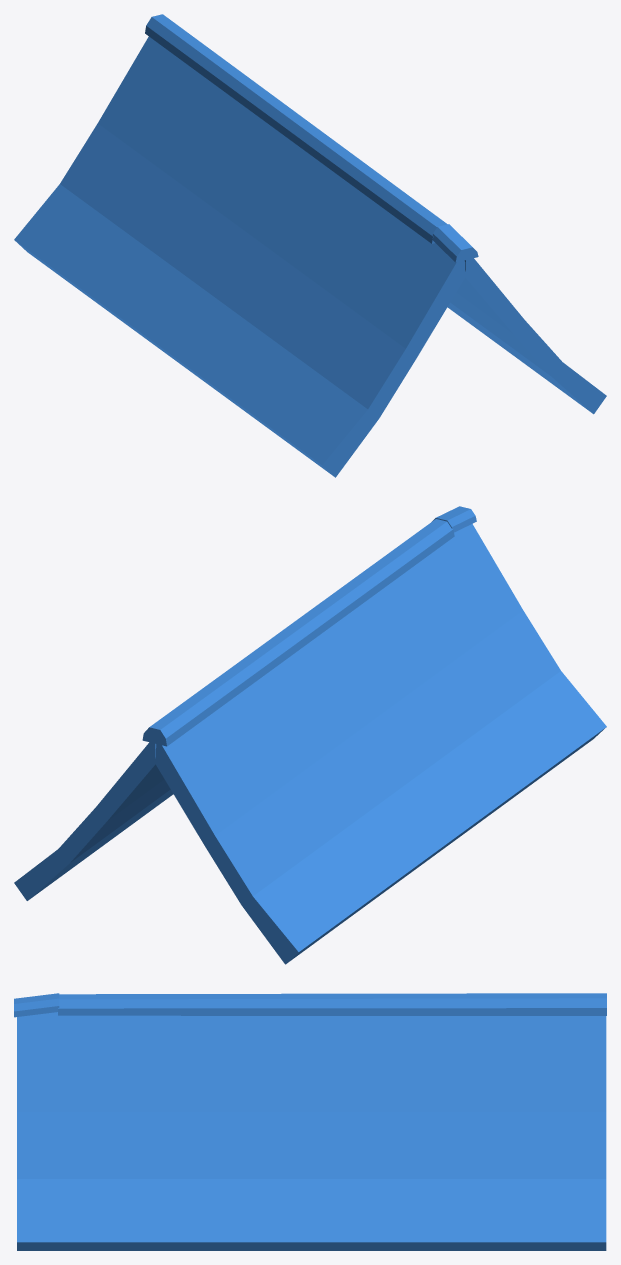
Rendered from Collision_Roof_RoundTiles_6x14.fbx.
The picture shows the model from 3 angles, top to bottom: view 1: azimuth 30°, elevation 25°; view 2: azimuth 150°, elevation 25°; view 3: azimuth 270°, elevation 25°; orthographic projection. The views are drawn at different scales.
Visible parts, largest first — view 1: UCX_Roof_RoundTiles_6x14_01; view 2: UCX_Roof_RoundTiles_6x14_01; view 3: UCX_Roof_RoundTiles_6x14_01.
Part boxes in pixels (x1,y1,x2,y2): UCX_Roof_RoundTiles_6x14_01: [14, 14, 606, 477]; UCX_Roof_RoundTiles_6x14_01: [14, 506, 606, 964]; UCX_Roof_RoundTiles_6x14_01: [14, 993, 606, 1250].
Bounding box in the file's own units: 829 × 569 × 1564.
